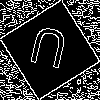U: (25, 25, 70, 79)
